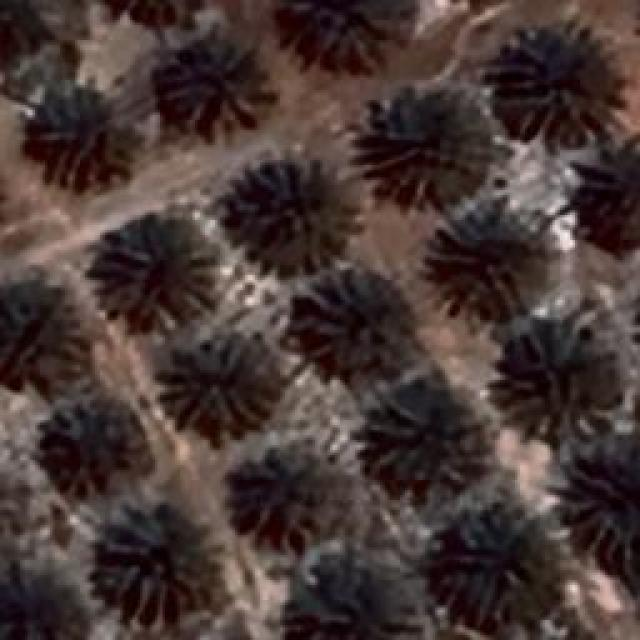PalmTree: (27, 34, 82, 605), (354, 82, 498, 210), (222, 155, 360, 275), (488, 324, 612, 448), (90, 218, 220, 332), (94, 498, 208, 620), (150, 28, 272, 140), (492, 25, 610, 140), (25, 80, 140, 190), (370, 387, 478, 495), (438, 208, 548, 314), (446, 518, 554, 618), (291, 557, 418, 640), (272, 0, 412, 72), (155, 340, 260, 435), (225, 442, 318, 548), (292, 270, 386, 368), (568, 460, 638, 570), (48, 402, 130, 486), (0, 278, 62, 386), (580, 150, 640, 250), (94, 0, 207, 24), (0, 447, 24, 542), (0, 447, 17, 542)
